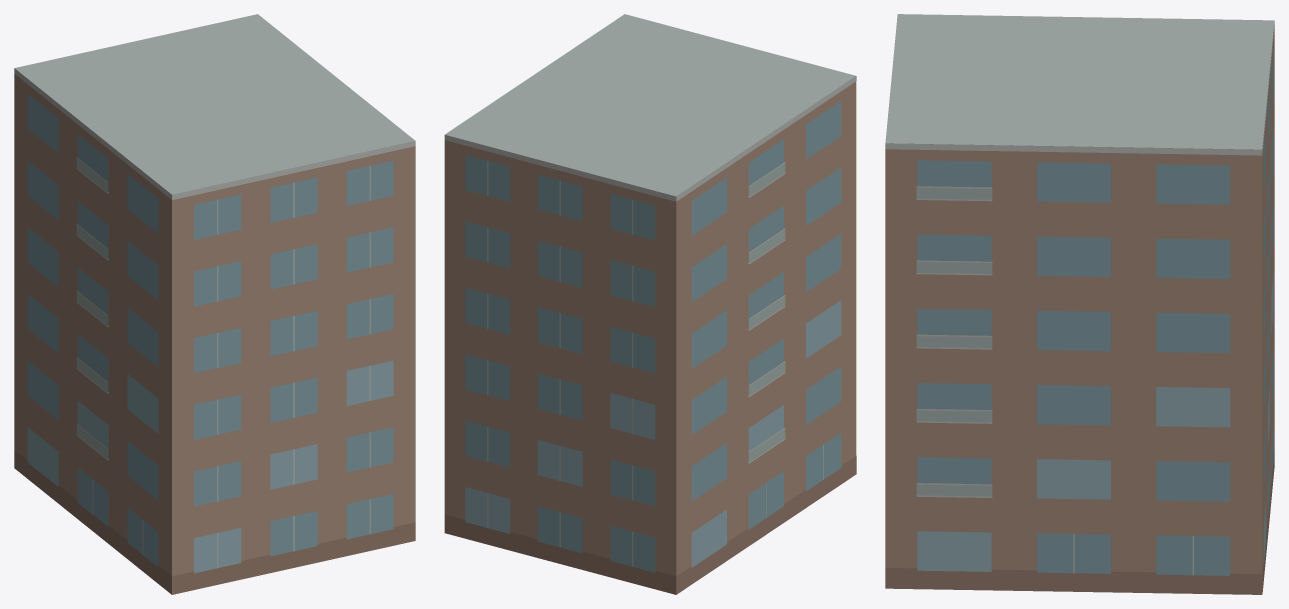
Rendered from survey-upis-32655696.glb.
3 views of the same model, side by side, from view 1: azimuth 30°, elevation 25°; view 2: azimuth 150°, elevation 25°; view 3: azimuth 270°, elevation 25° (orthographic). The views are drawn at different scales.
Visible parts, largest first — view 1: survey-upis-32655696.tmp; view 2: survey-upis-32655696.tmp; view 3: survey-upis-32655696.tmp.
Boxes of the visible parts, <box> form: survey-upis-32655696.tmp: <box>14,14,415,594</box>; survey-upis-32655696.tmp: <box>444,14,856,594</box>; survey-upis-32655696.tmp: <box>885,14,1274,594</box>.
Bounding box in the file's own units: 11.96 × 18.3 × 14.51.
